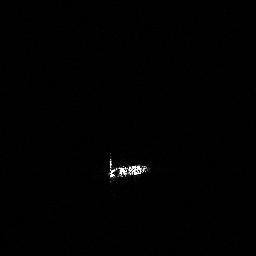ship: (103, 150, 152, 185)
